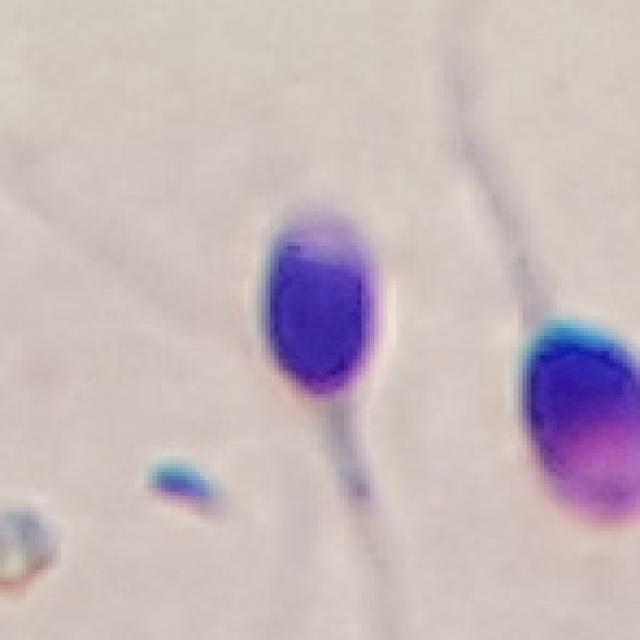normal sperm: (497, 214, 636, 525), (260, 216, 387, 516)
